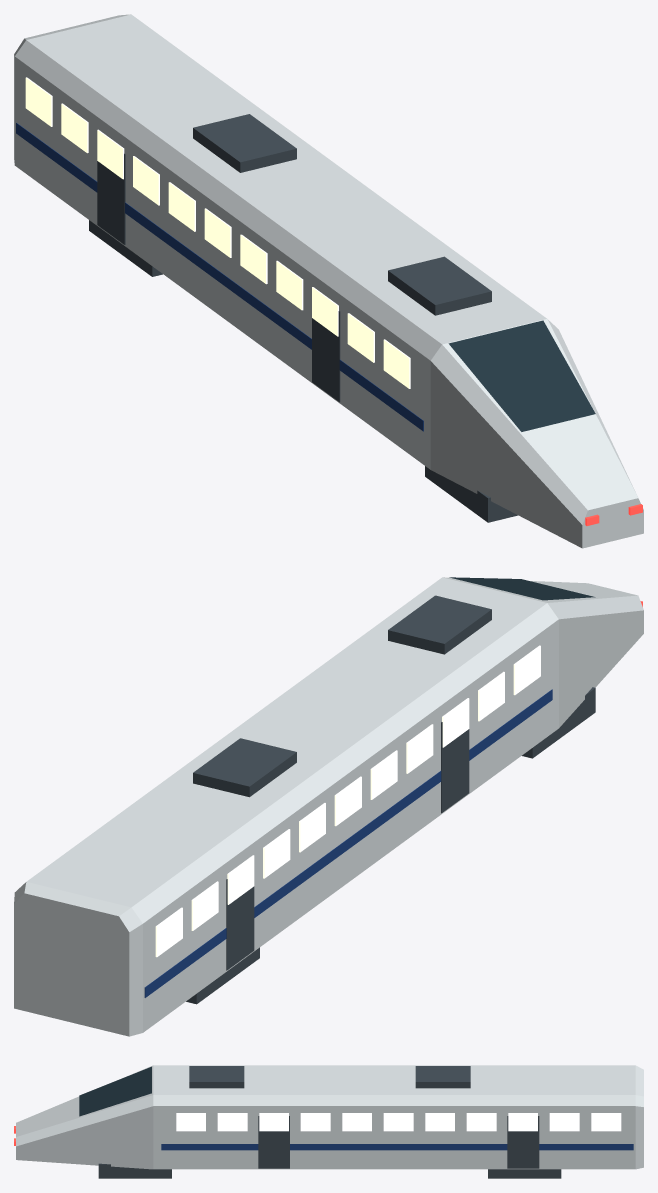
Rendered from shinkansen-tail.glb.
3 views of the same model, one above another, from view 1: azimuth 30°, elevation 25°; view 2: azimuth 150°, elevation 25°; view 3: azimuth 270°, elevation 25° (orthographic). The views are drawn at different scales.
Bounding box in the file's own units: 3.37 × 3.77 × 24.07.
